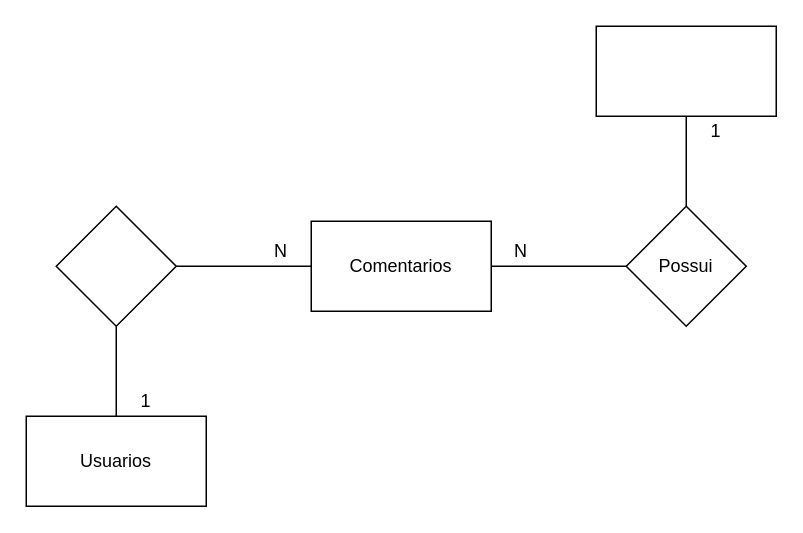
This 803x533 diagram has some shape labels left out. Each missing label, with the centre of its shape:
"Pacotes" belongs at point 685,70.
"Tem" belongs at point 115,265.
